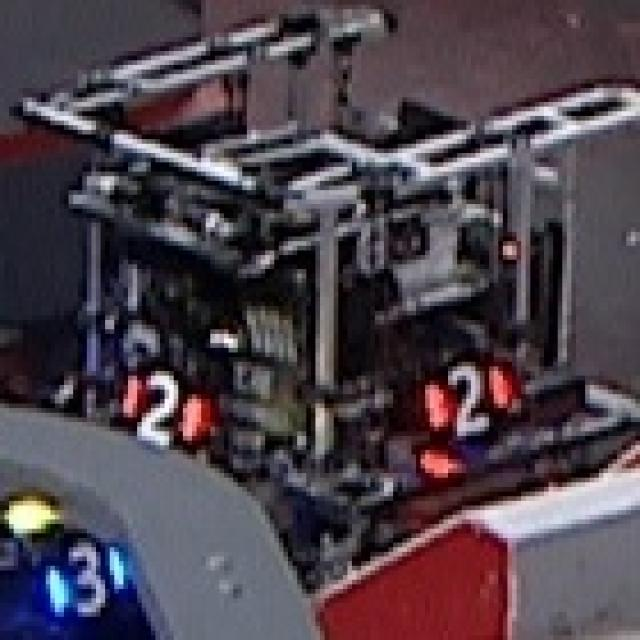B3: (41, 542, 133, 616)
R2: (421, 357, 512, 436), (119, 366, 206, 446)
